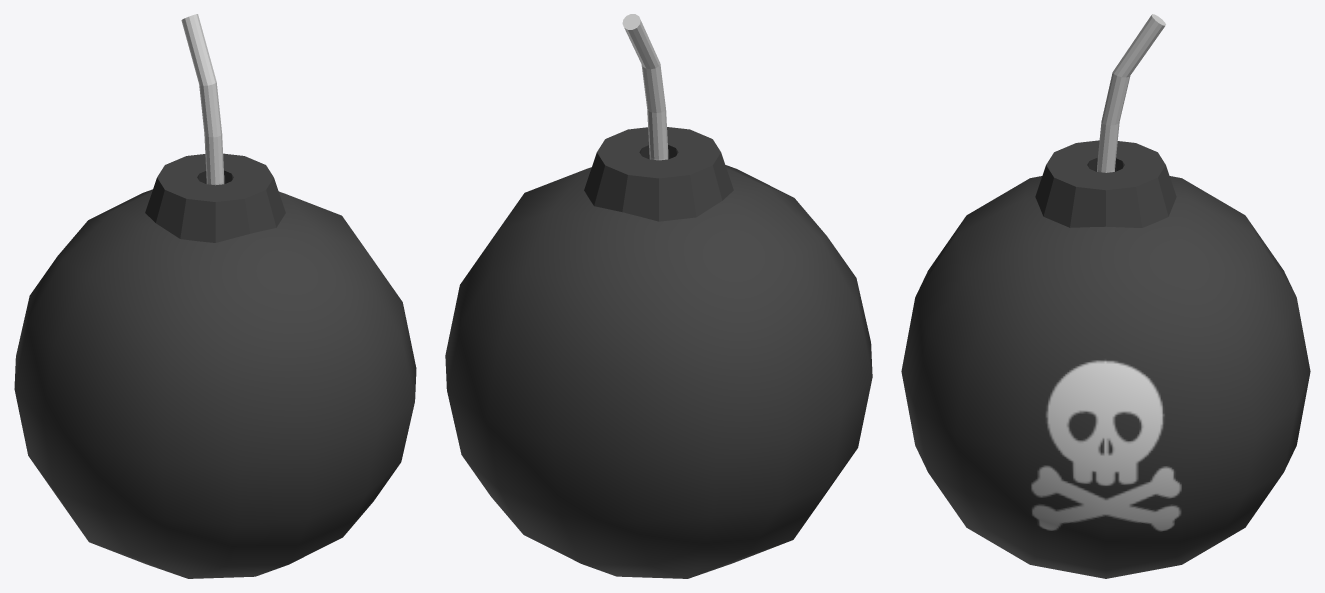
The model's file is bom.fbx.
3 views of the same model, side by side, from view 1: azimuth 30°, elevation 25°; view 2: azimuth 150°, elevation 25°; view 3: azimuth 270°, elevation 25° (orthographic). The views are drawn at different scales.
Visible parts, largest first — view 1: pCylinder4; view 2: pCylinder4; view 3: pCylinder4.
Boxes of the visible parts, x1=… form: pCylinder4: x1=14, y1=14, x2=416, y2=578; pCylinder4: x1=445, y1=14, x2=872, y2=578; pCylinder4: x1=901, y1=14, x2=1310, y2=578.
Size of the model in its own units: 271 by 396 by 271.
1 material, 1 textured.
